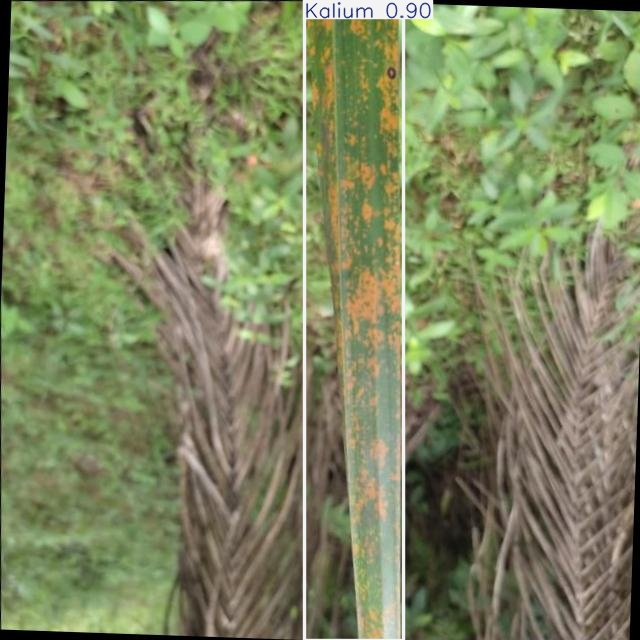Kalium: (305, 0, 403, 640)
